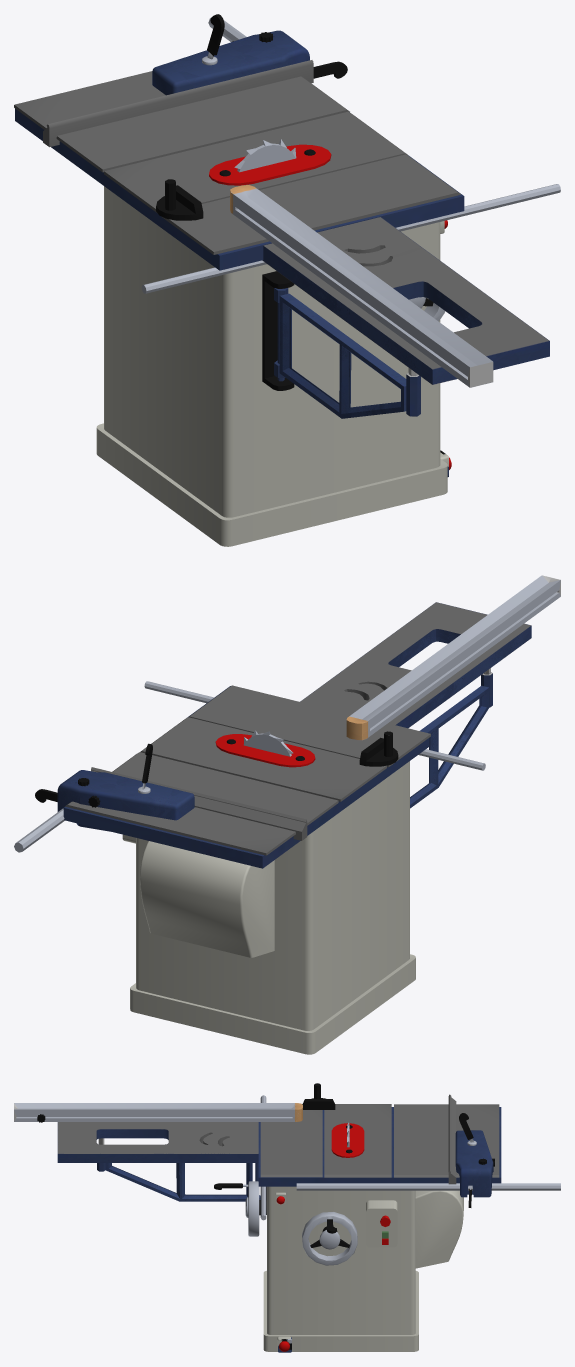
File: Woodworking machine NEW version.fbx
3 views of the same model, one above another, from view 1: azimuth 30°, elevation 25°; view 2: azimuth 150°, elevation 25°; view 3: azimuth 270°, elevation 25° (orthographic). The views are drawn at different scales.
Visible parts, largest first — view 1: main body; view 2: main body; view 3: main body.
Boxes of the visible parts, x1,y1,x2,y2 form: main body: (14, 14, 560, 546); main body: (14, 575, 560, 1054); main body: (14, 1083, 560, 1352).
Size of the model in its own units: 153 by 130 by 294.
Materials: 1 (1 with a texture image).
